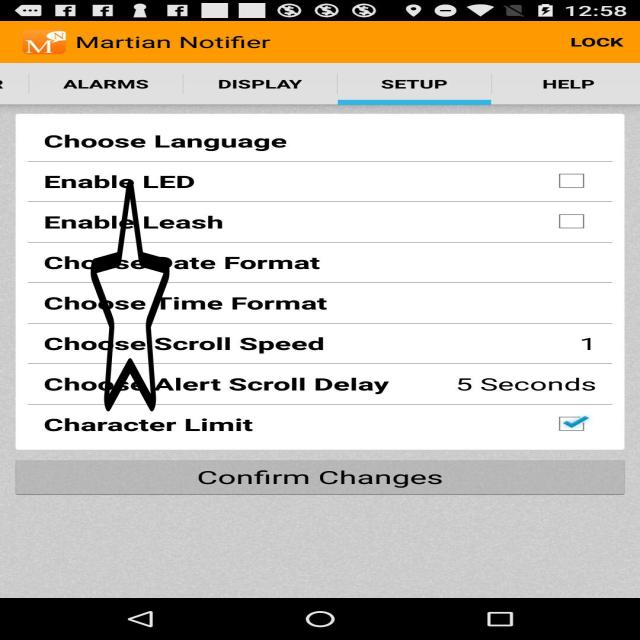forced continuity: (90, 175, 170, 416)
